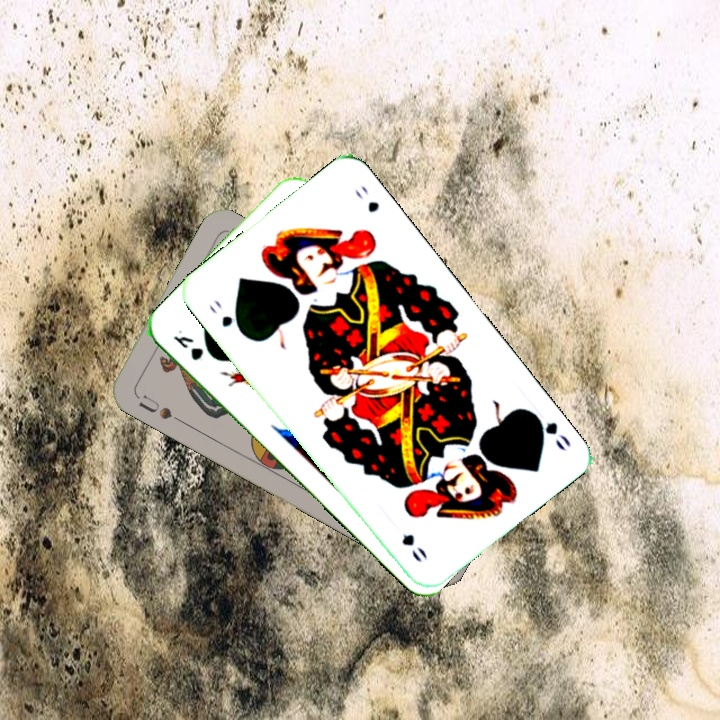GK: (169, 325, 206, 364)
GO: (525, 407, 574, 454), (205, 295, 247, 338)
SU: (132, 390, 186, 426)
